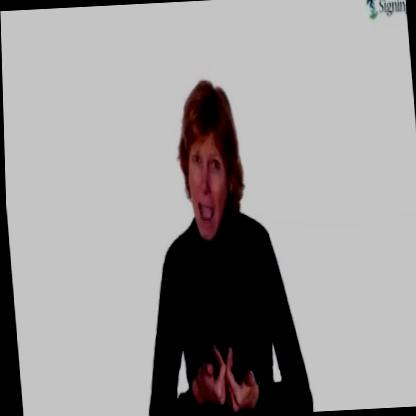HowAreYou: (182, 324, 260, 416)
